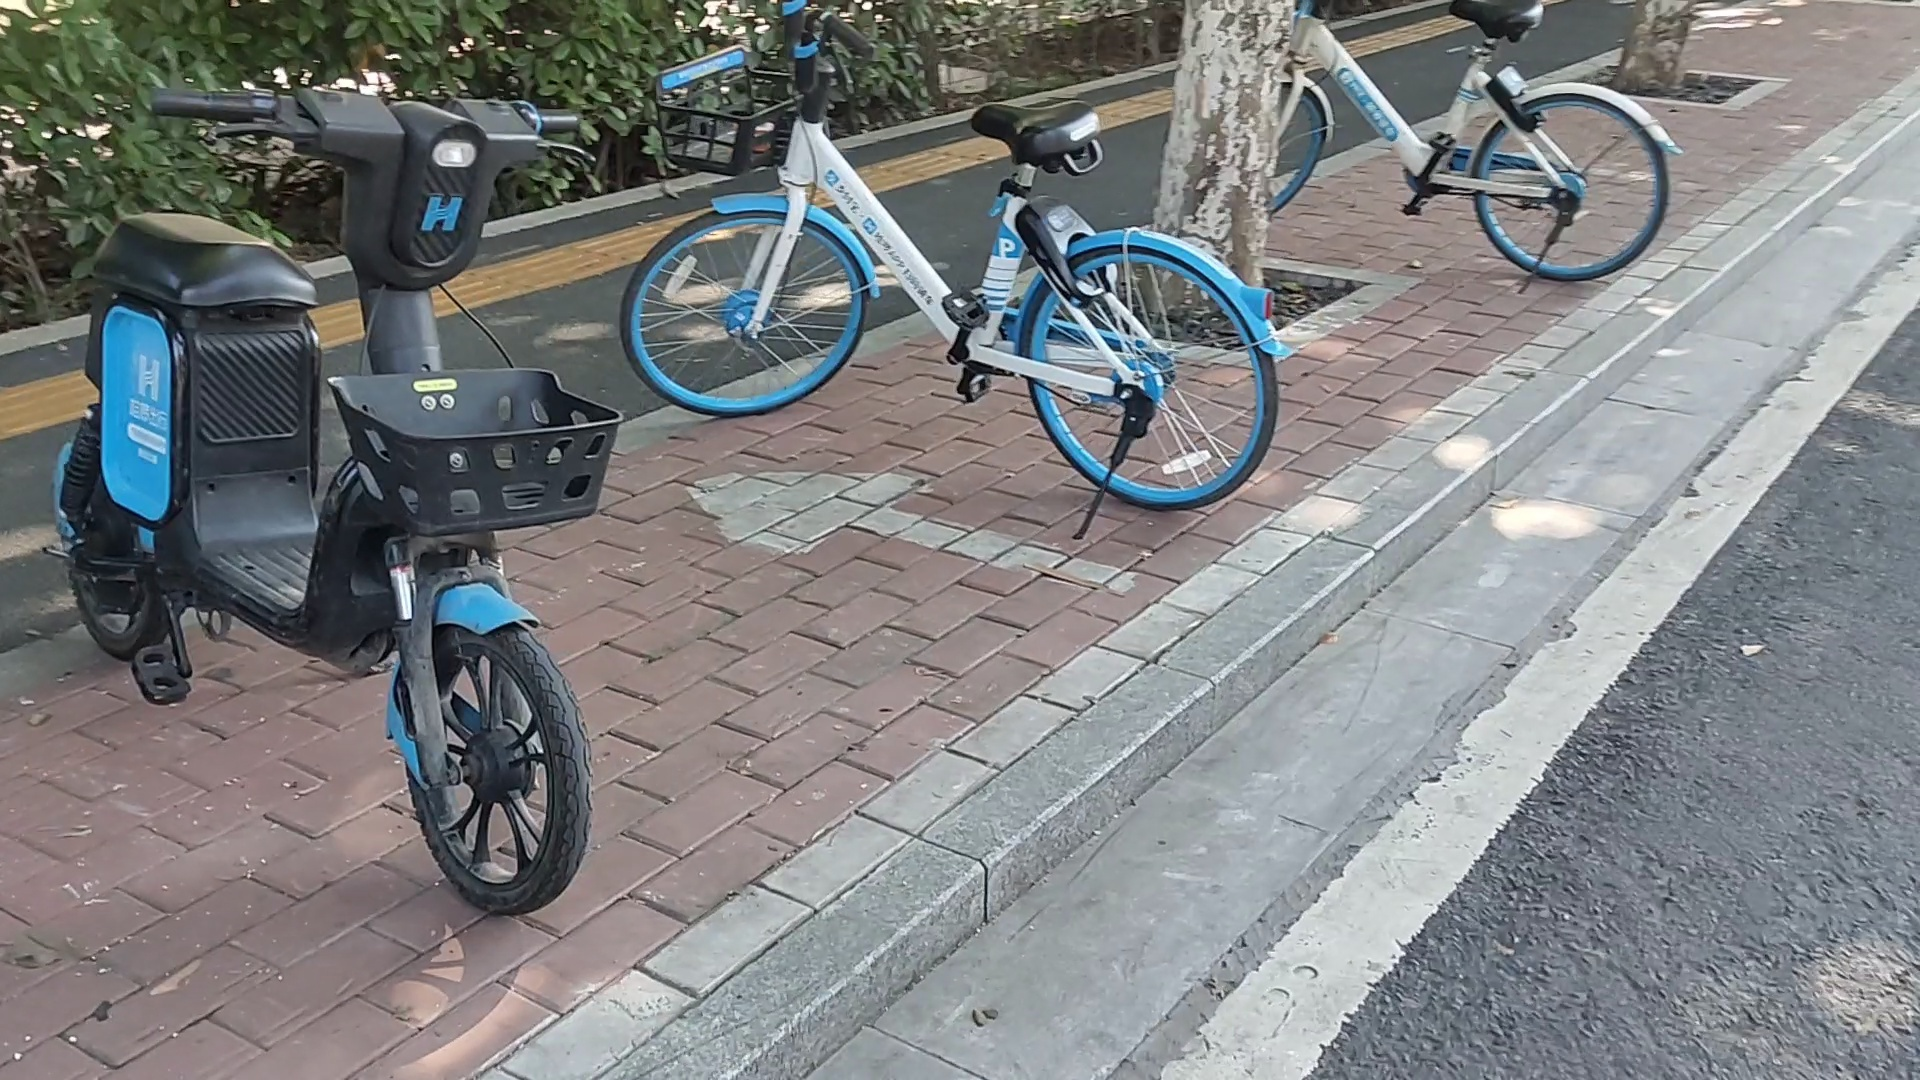non-vehicle: (47, 57, 626, 924), (618, 3, 1288, 510), (1076, 0, 1683, 290)
